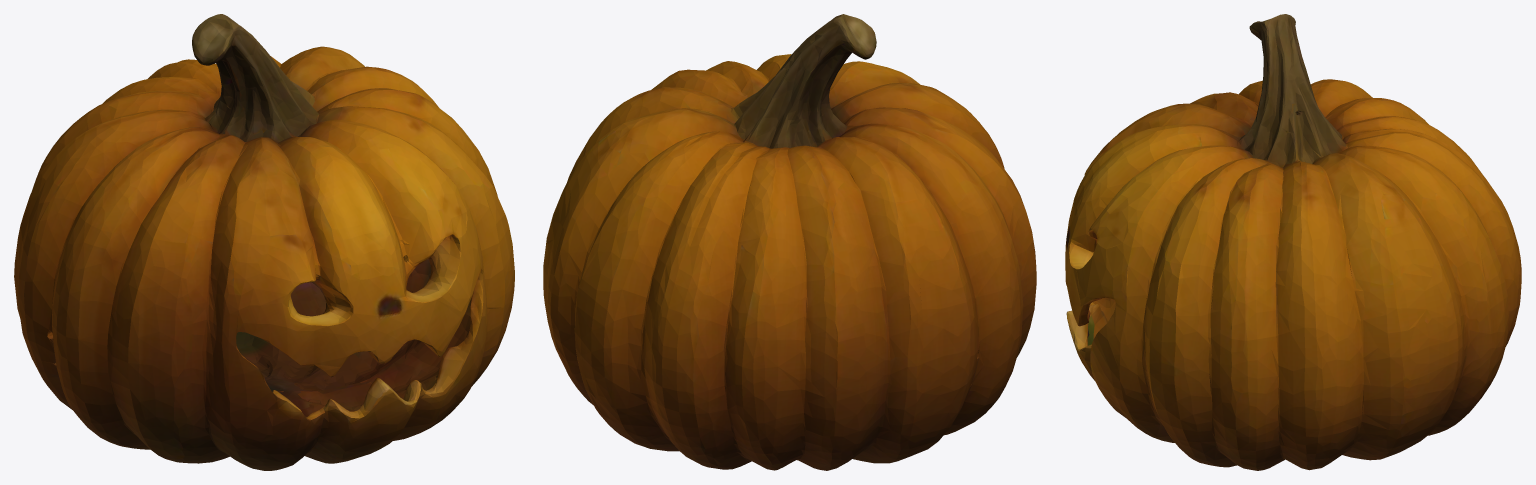
Rendered from pumpkin_jackolantern_zigzag.glb.
3 renders of one model, left to right at view 1: azimuth 30°, elevation 25°; view 2: azimuth 150°, elevation 25°; view 3: azimuth 270°, elevation 25°, orthographic. The views are drawn at different scales.
Visible parts, largest first — view 1: geometry_0; view 2: geometry_0; view 3: geometry_0.
Part boxes in pixels (x1,y1,x2,y2): geometry_0: (14, 14, 514, 470); geometry_0: (543, 14, 1036, 470); geometry_0: (1065, 14, 1521, 470).
Size of the model in its own units: 0.9971 by 0.9334 by 0.9965.
Materials: 1 (1 with a texture image).
